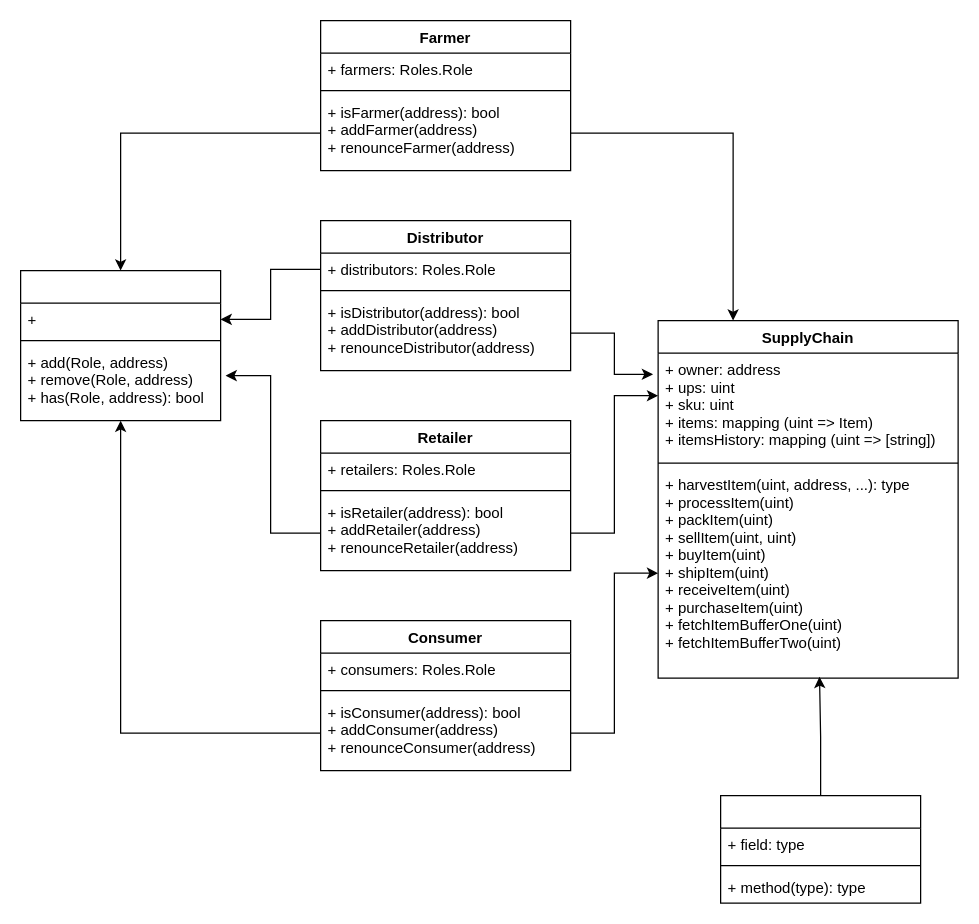
The diagram is 979 pixels wide and 924 high, and some of its shapes have lost their labels. Each missing label, with the box of its shape:
Ownable: (719, 794, 921, 903)
Roles: (19, 269, 221, 421)
